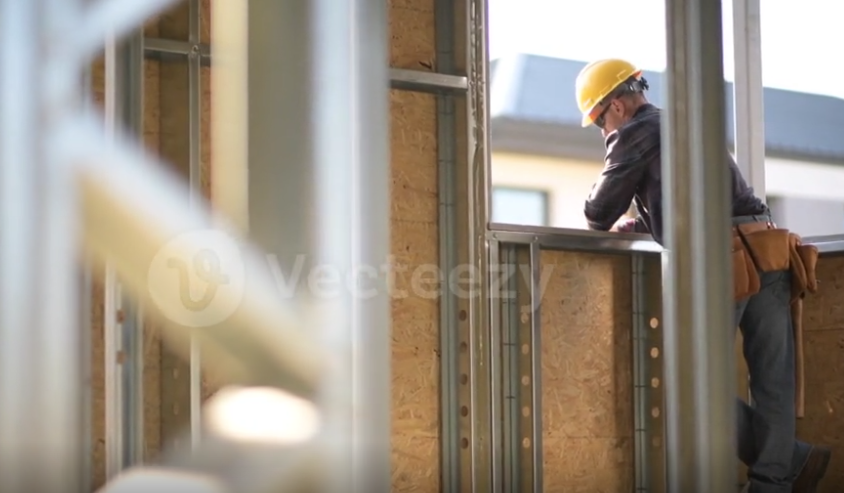safety_helmet: (574, 57, 643, 129)
